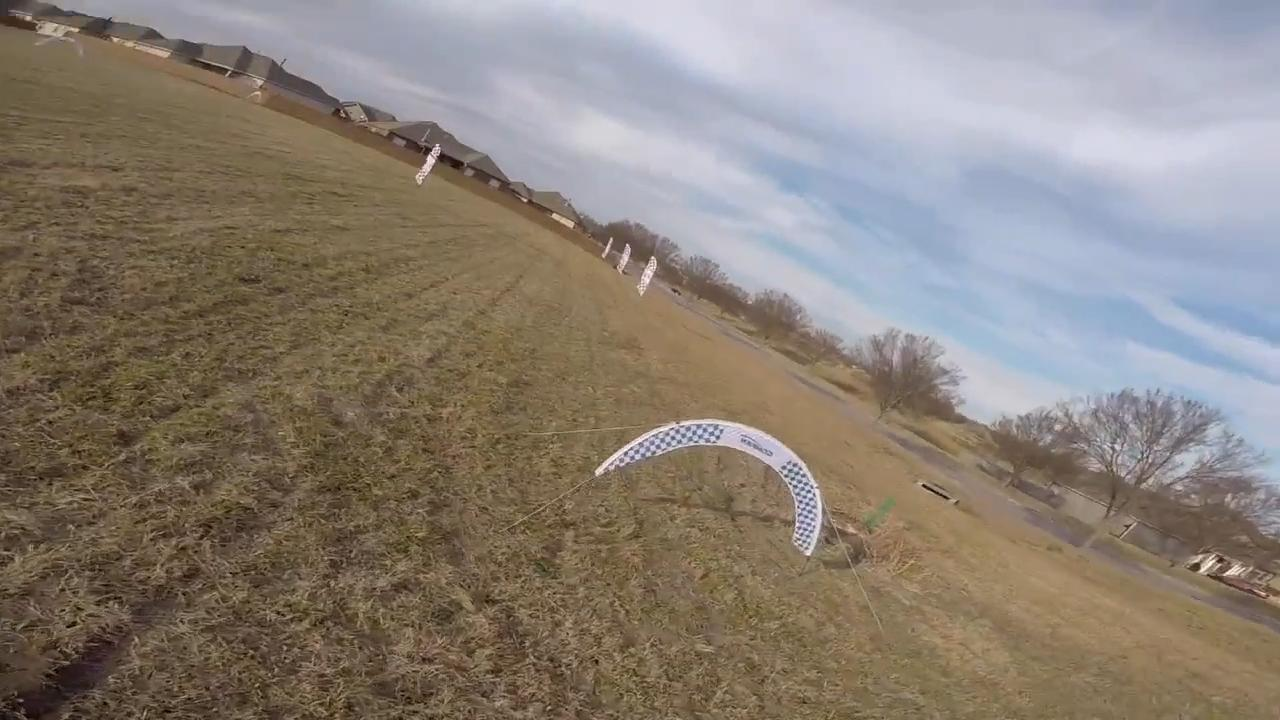gate: (593, 418, 828, 560)
